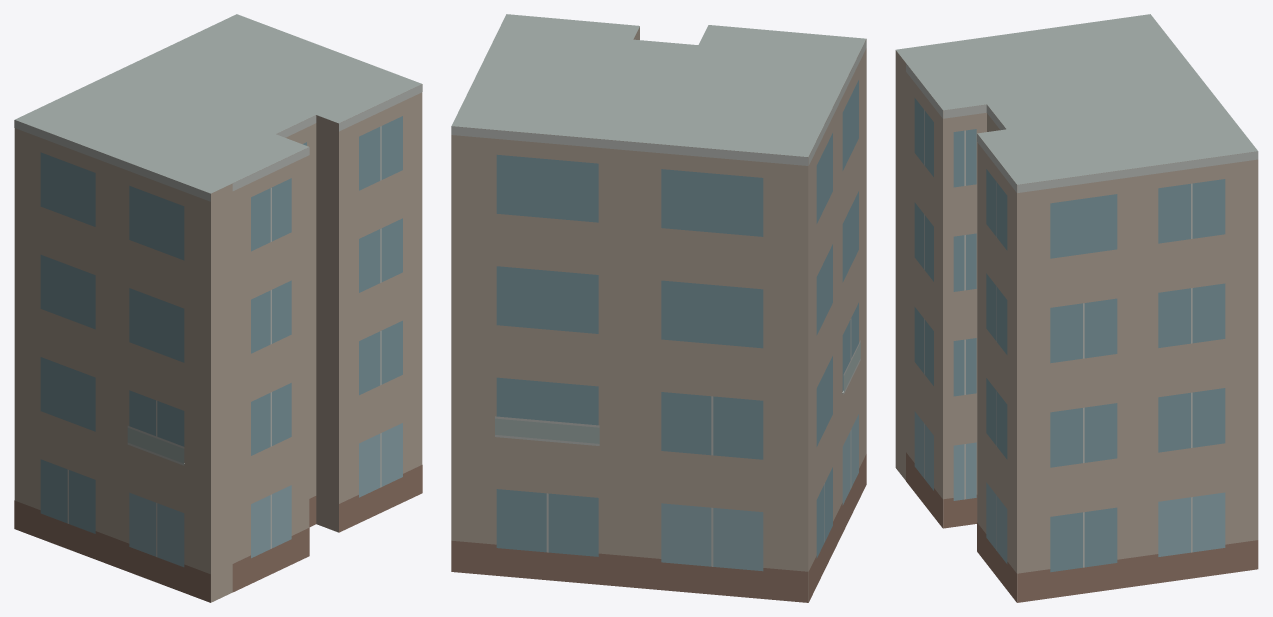
Rendered from residential-18818973-bb2c-461a-a276-84d47a9690a9.glb.
3 views of the same model, side by side, from view 1: azimuth 30°, elevation 25°; view 2: azimuth 150°, elevation 25°; view 3: azimuth 270°, elevation 25° (orthographic). The views are drawn at different scales.
Parts seen in each view (by area): view 1: residential-18818973-bb2c-461a-a276-84d47a9690a9.tmp; view 2: residential-18818973-bb2c-461a-a276-84d47a9690a9.tmp; view 3: residential-18818973-bb2c-461a-a276-84d47a9690a9.tmp.
Boxes of the visible parts, x1,y1,x2,y2 form: residential-18818973-bb2c-461a-a276-84d47a9690a9.tmp: (14, 14, 422, 602); residential-18818973-bb2c-461a-a276-84d47a9690a9.tmp: (451, 14, 866, 602); residential-18818973-bb2c-461a-a276-84d47a9690a9.tmp: (895, 14, 1258, 602).
Size of the model in its own units: 10.7 by 12.2 by 9.6.
